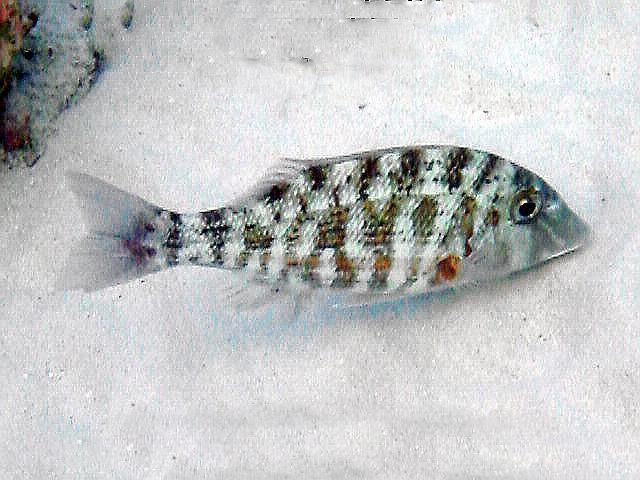Sirip Ekor: (39, 154, 175, 330)
Sirip Punggung: (197, 125, 379, 218)
